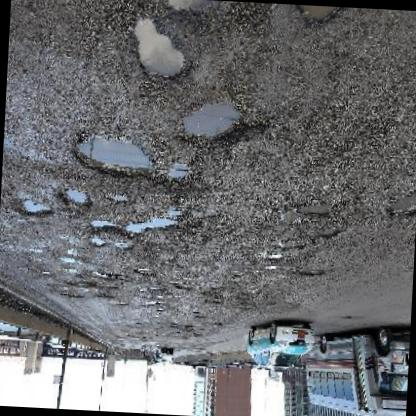pothole: (69, 132, 158, 184), (128, 16, 189, 84), (176, 96, 245, 148), (122, 214, 178, 239), (292, 6, 340, 33), (386, 189, 416, 221), (57, 188, 91, 213), (18, 198, 54, 221), (296, 204, 334, 220), (87, 217, 120, 234), (88, 236, 106, 250)
